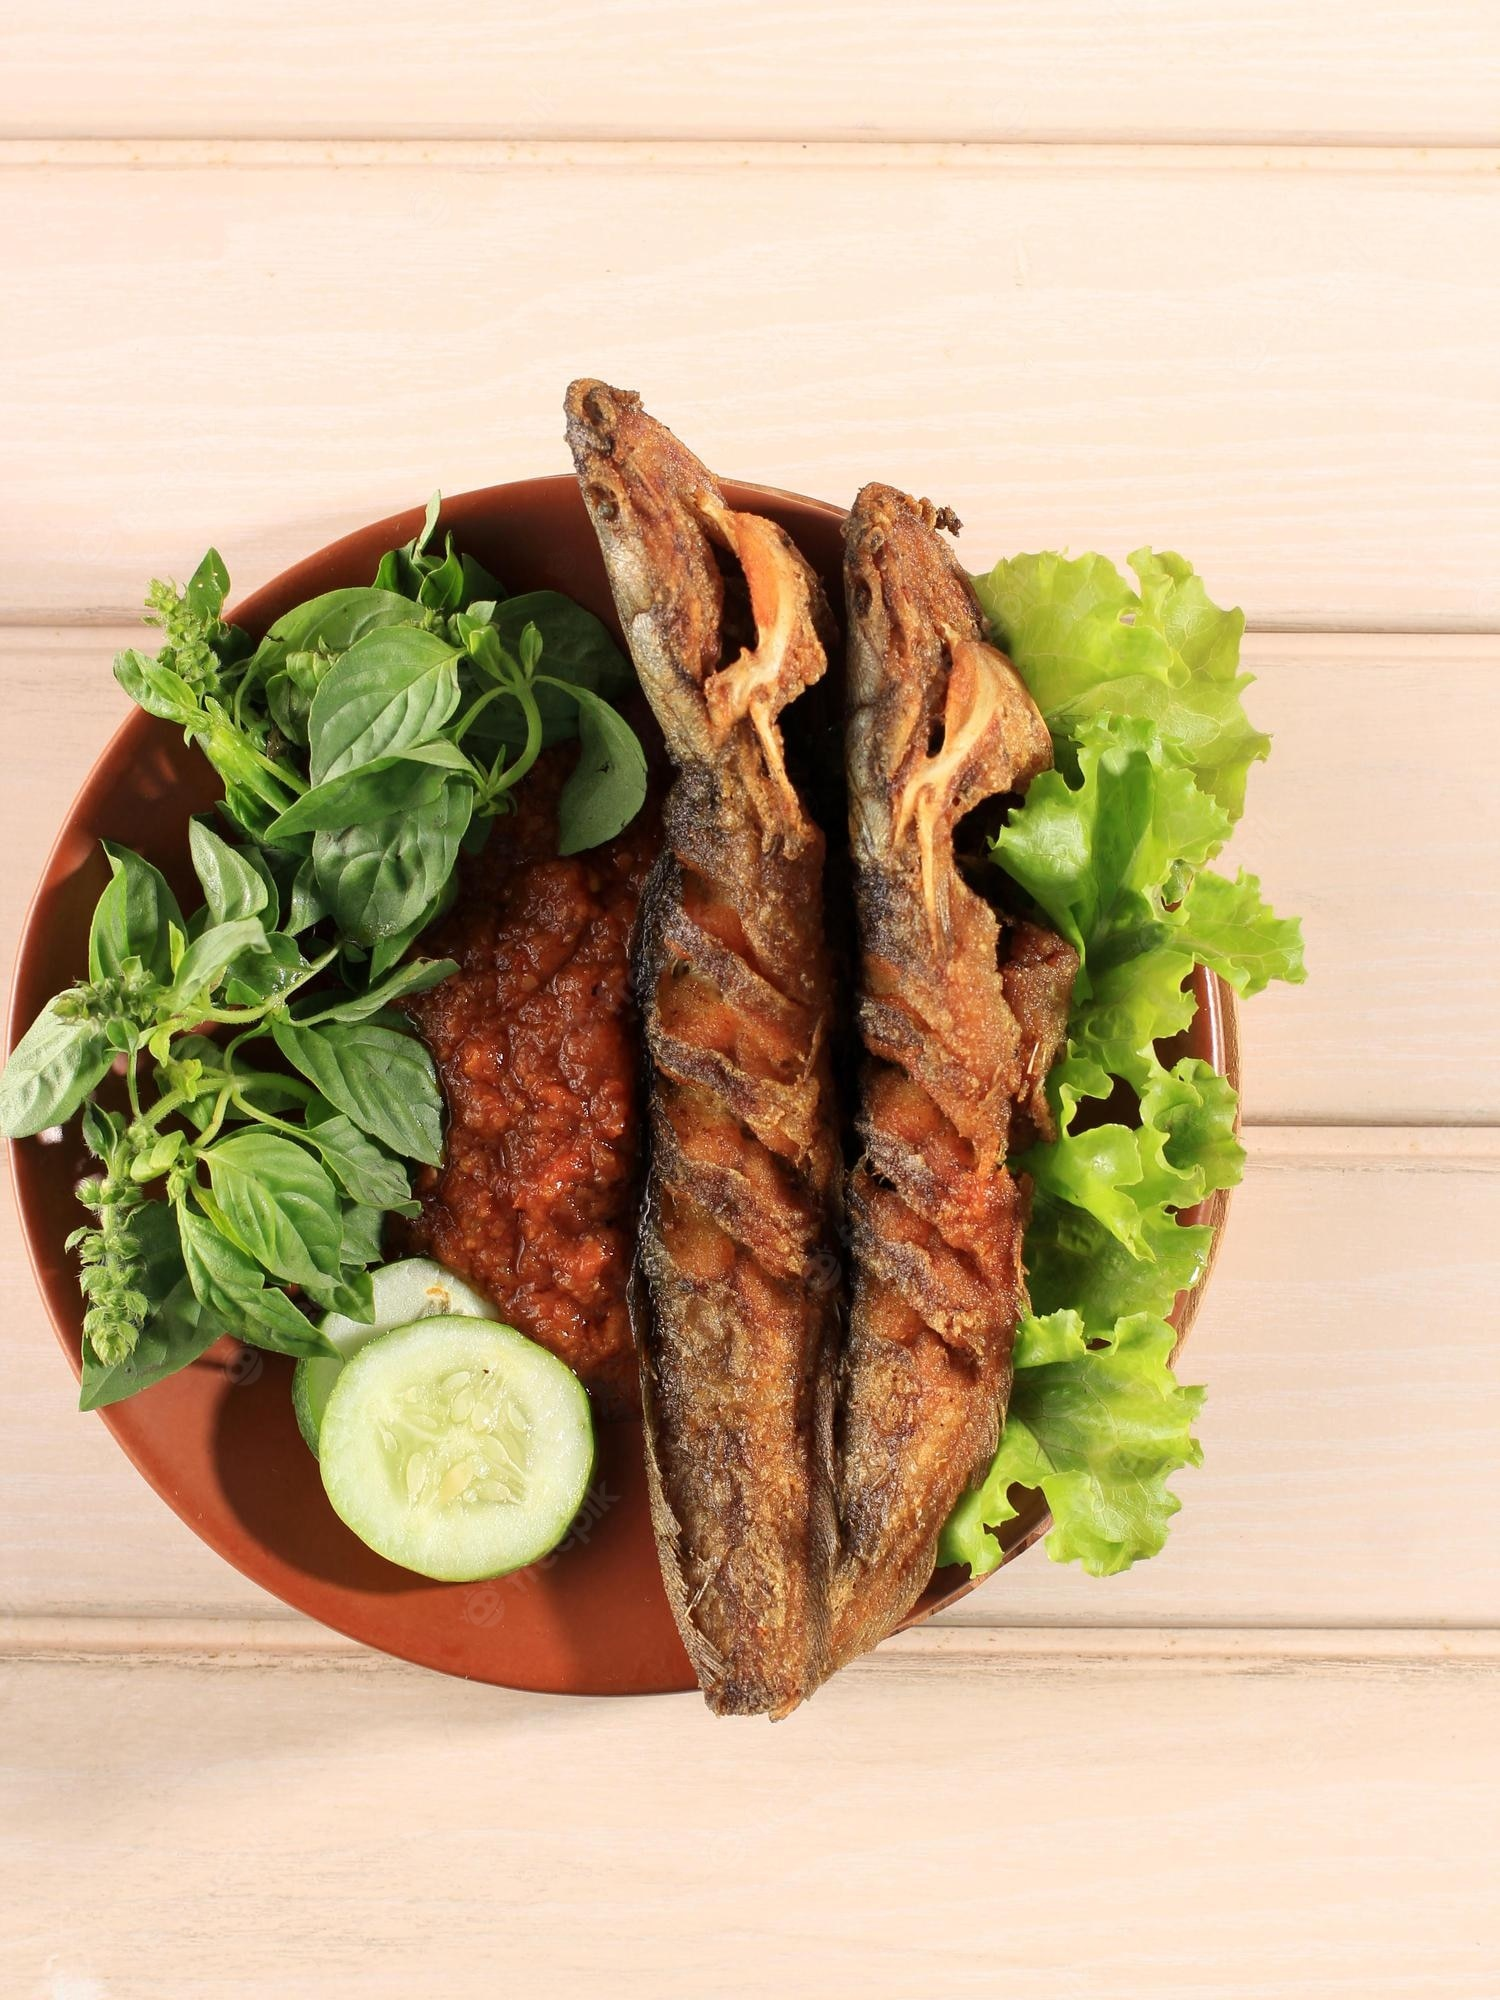pecel_lele: (547, 367, 815, 1707), (838, 447, 1018, 1710)
